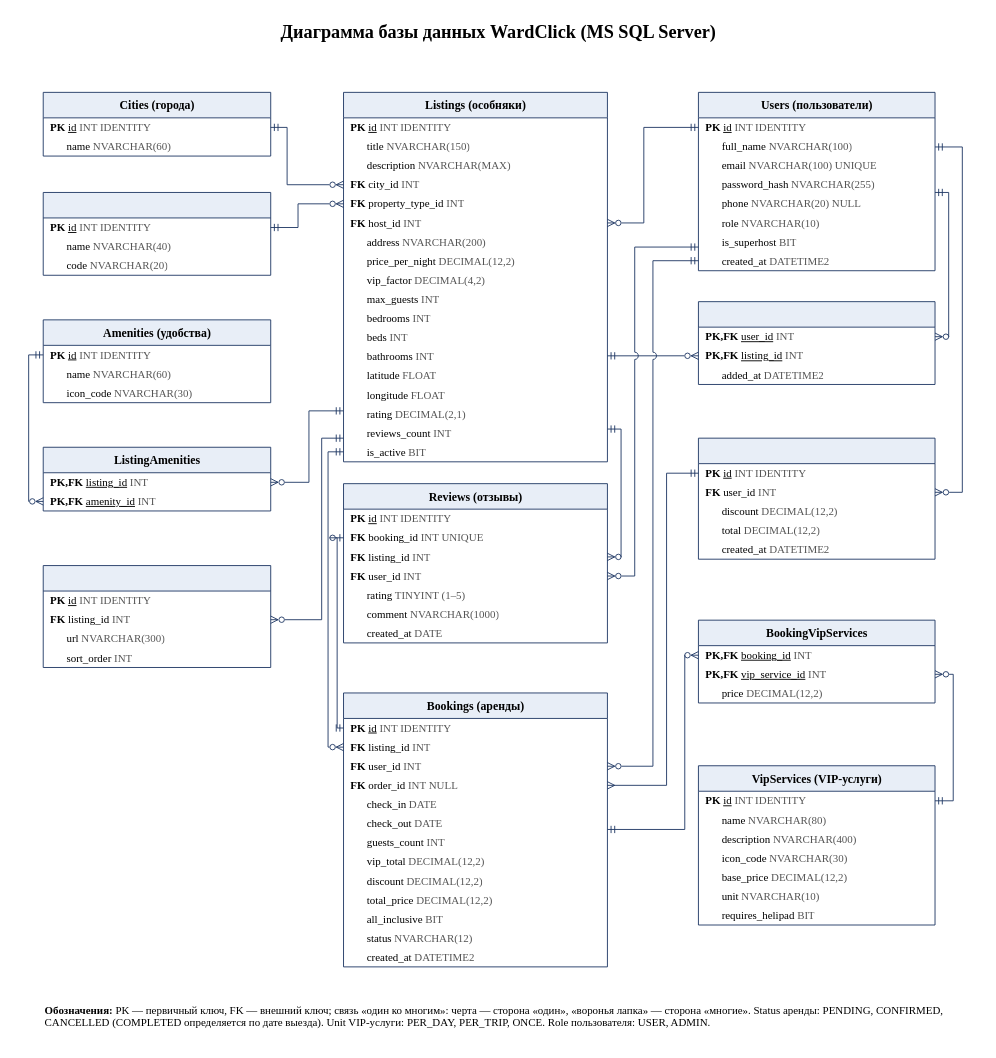
Some shapes in this 996 by 1058 pixel diagram are drawn without their labels. Each missing label, with the box of its shape:
Favorites (избранное): (698, 301, 935, 384)
ListingPhotos (фото): (42, 565, 271, 667)
Orders (заказы): (698, 437, 935, 559)
PropertyTypes (типы особняков): (42, 192, 271, 275)
